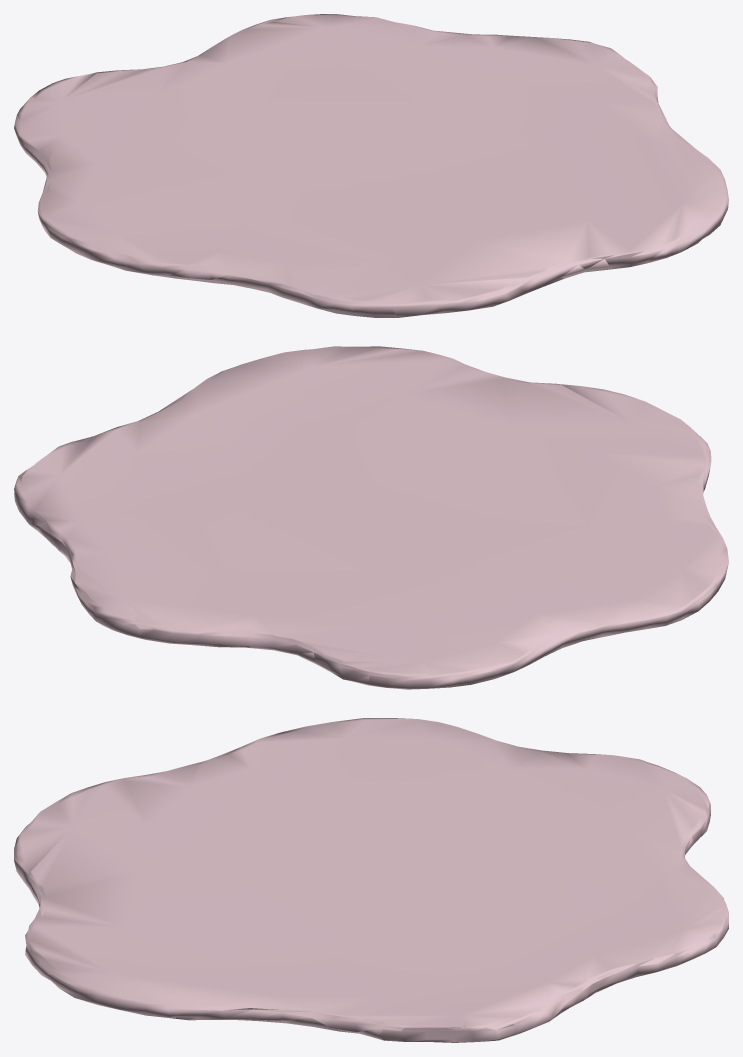
File: bath_mat.glb
3 views of the same model, one above another, from view 1: azimuth 30°, elevation 25°; view 2: azimuth 150°, elevation 25°; view 3: azimuth 270°, elevation 25° (orthographic). The views are drawn at different scales.
Size of the model in its own units: 1.3 by 0.035 by 1.26.
